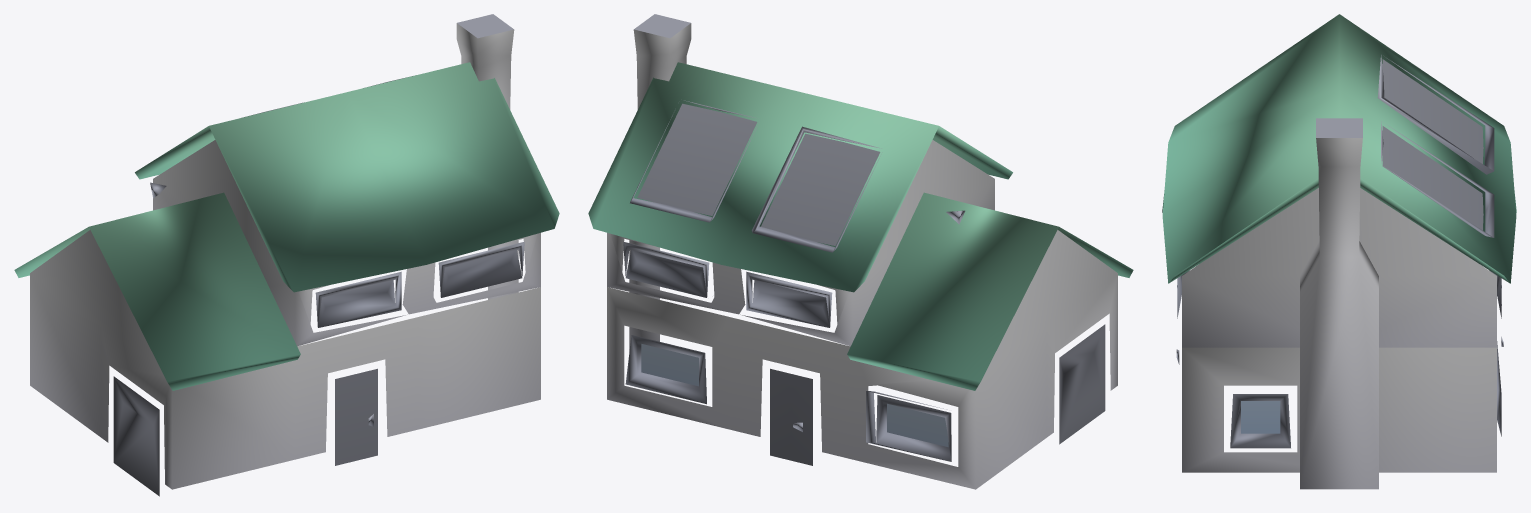
The picture shows the model from 3 angles, left to right: view 1: azimuth 30°, elevation 25°; view 2: azimuth 150°, elevation 25°; view 3: azimuth 270°, elevation 25°; orthographic projection. The views are drawn at different scales.
Bounding box in the file's own units: 10.8 × 8.3 × 7.2.
